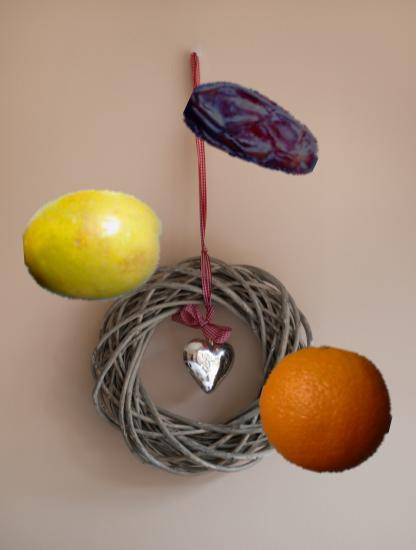Dates: (183, 57, 326, 200)
Maracuja: (23, 175, 164, 316)
Orange: (259, 344, 393, 478)
